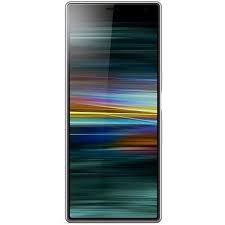sony: (61, 1, 166, 222)
